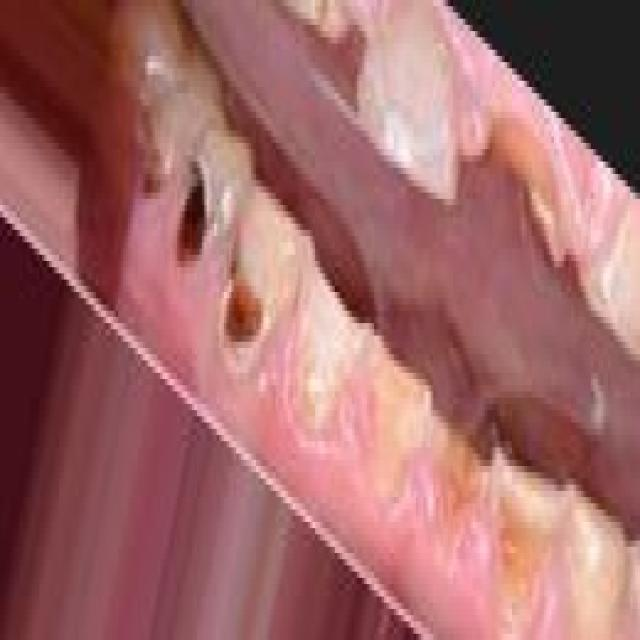caries: (485, 430, 563, 618), (499, 104, 568, 285), (364, 327, 427, 506), (213, 254, 274, 404), (426, 412, 482, 574), (173, 140, 220, 278)
